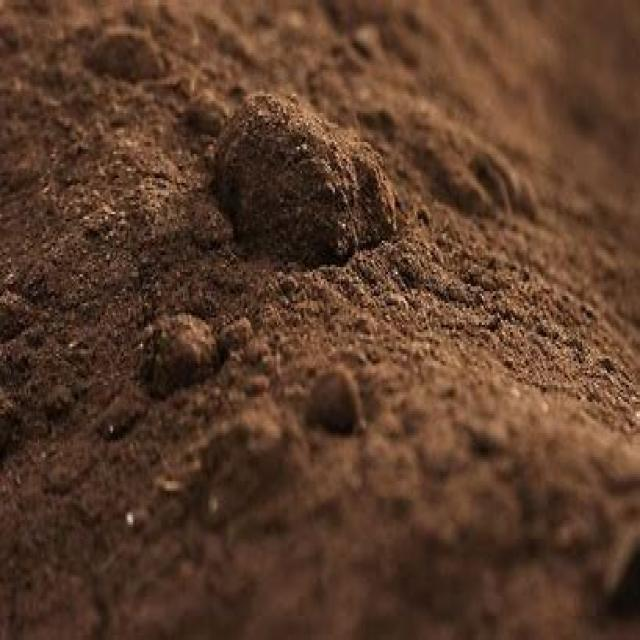Alluvial Soil: (32, 63, 592, 520)
